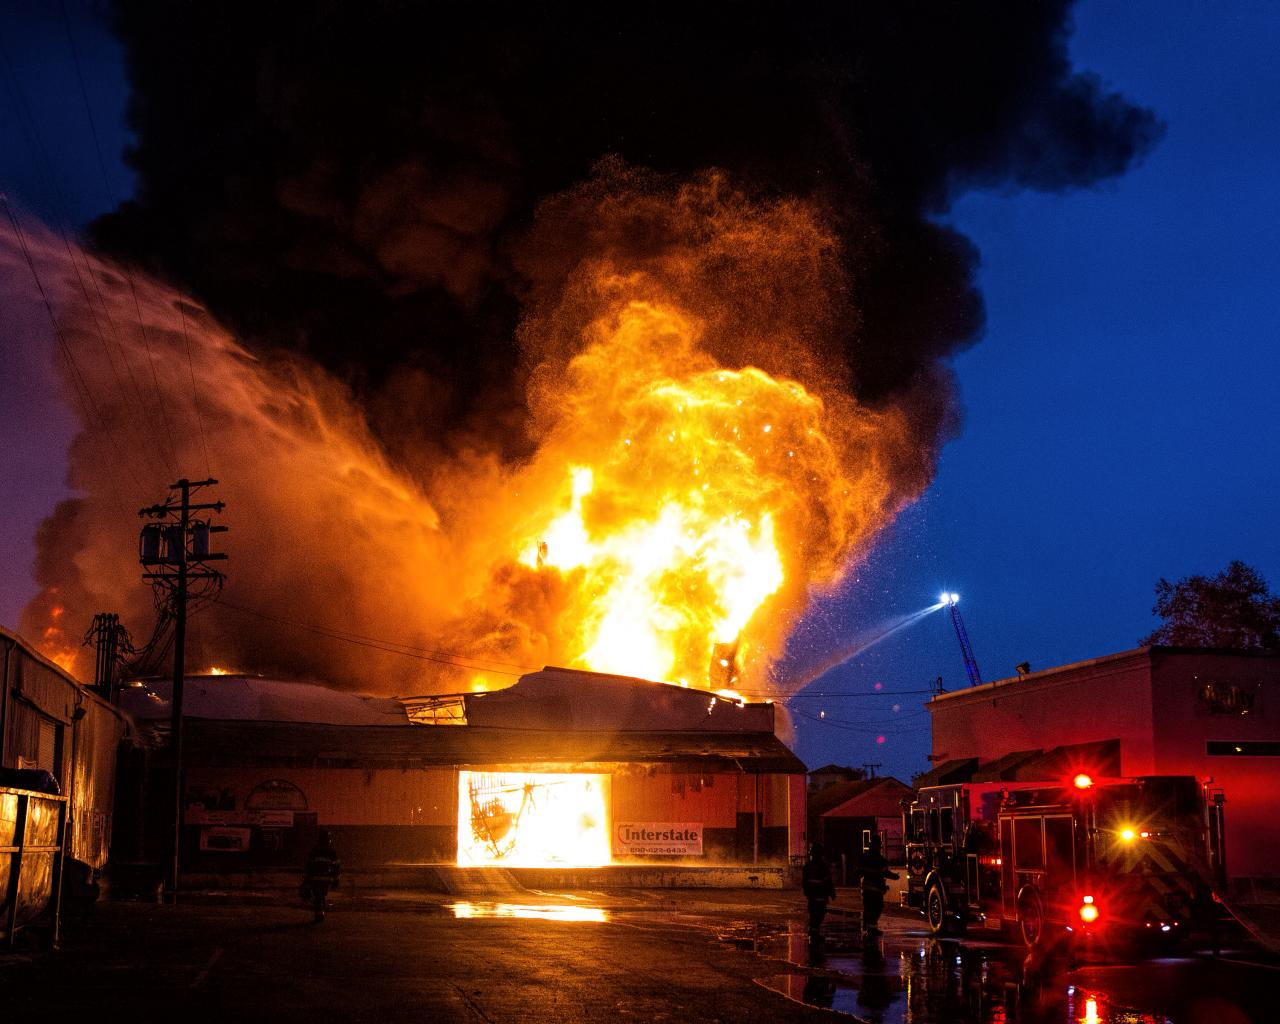fire: (368, 317, 915, 823)
